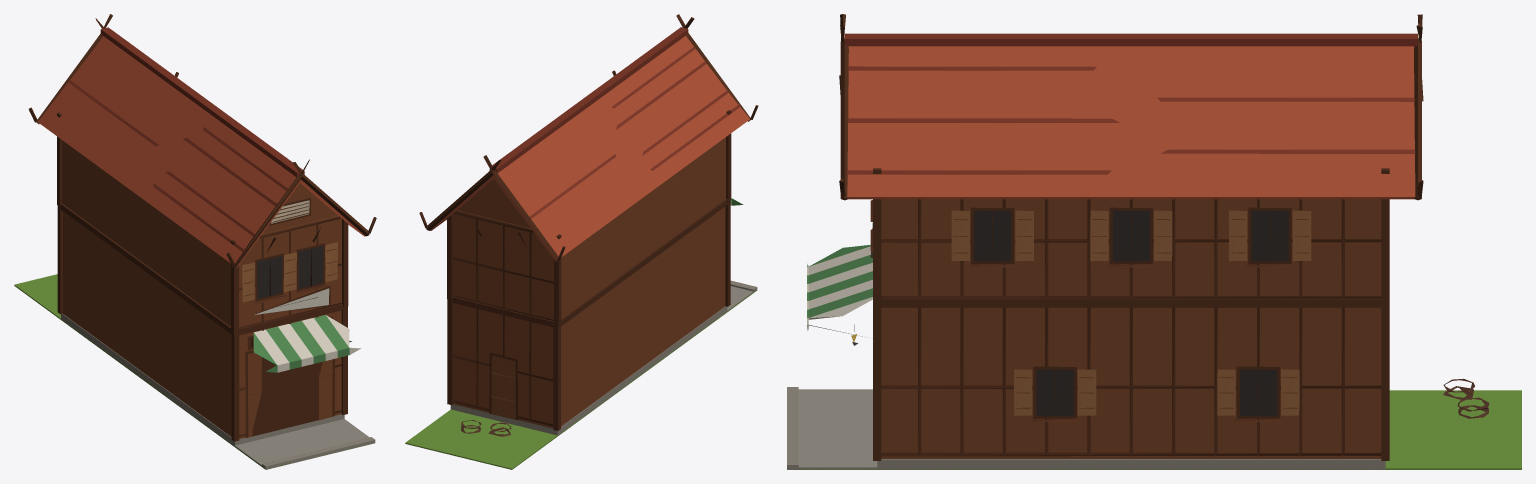
Rendered from bay1_right.glb.
3 views of the same model, side by side, from view 1: azimuth 30°, elevation 25°; view 2: azimuth 150°, elevation 25°; view 3: azimuth 270°, elevation 25° (orthographic). The views are drawn at different scales.
Parts seen in each view (by area): view 1: body, windows; view 2: body; view 3: body, windows.
Boxes of the visible parts, x1,y1,x2,y2 form: body: (14, 14, 376, 469); windows: (257, 246, 323, 298); body: (405, 14, 758, 469); body: (787, 14, 1521, 469); windows: (851, 210, 1288, 415).
Size of the model in its own units: 5.46 by 9.85 by 15.9.
